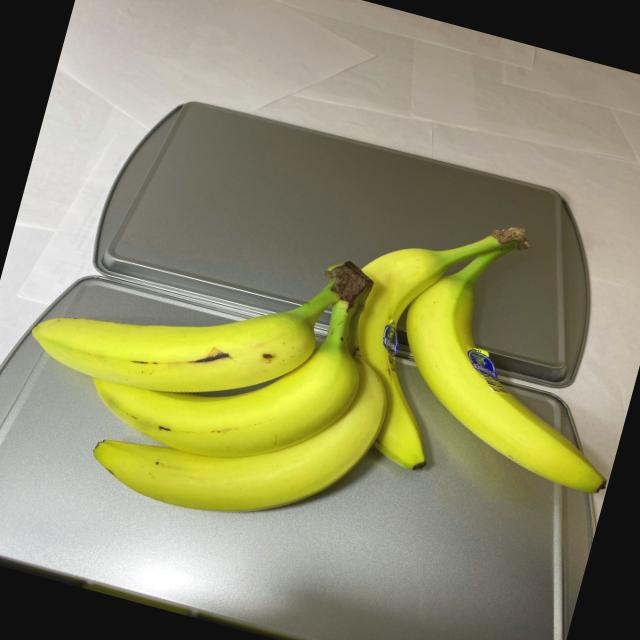banana: (0, 110, 640, 613)
